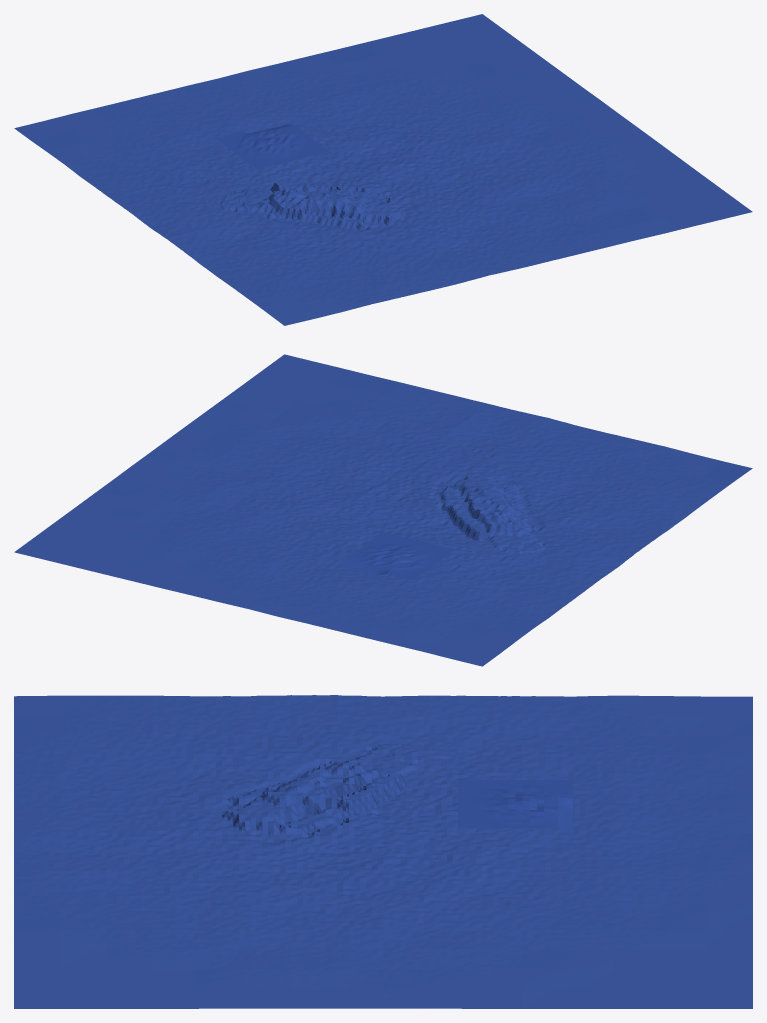
File: MapWater.obj
3 renders of one model, top to bottom at view 1: azimuth 30°, elevation 25°; view 2: azimuth 150°, elevation 25°; view 3: azimuth 270°, elevation 25°, orthographic. The views are drawn at different scales.
Visible parts, largest first — view 1: Plane.002, Plane.001; view 2: Plane.002, Plane.001; view 3: Plane.002, Plane.001.
Part boxes in pixels (x1,y1,x2,y2): Plane.002: (14,14,752,325); Plane.001: (215,124,329,169); Plane.002: (14,354,752,666); Plane.001: (340,532,454,580); Plane.002: (14,695,752,1008); Plane.001: (458,780,572,833).
Bounding box in the file's own units: 41.84 × 1.61 × 41.84.
